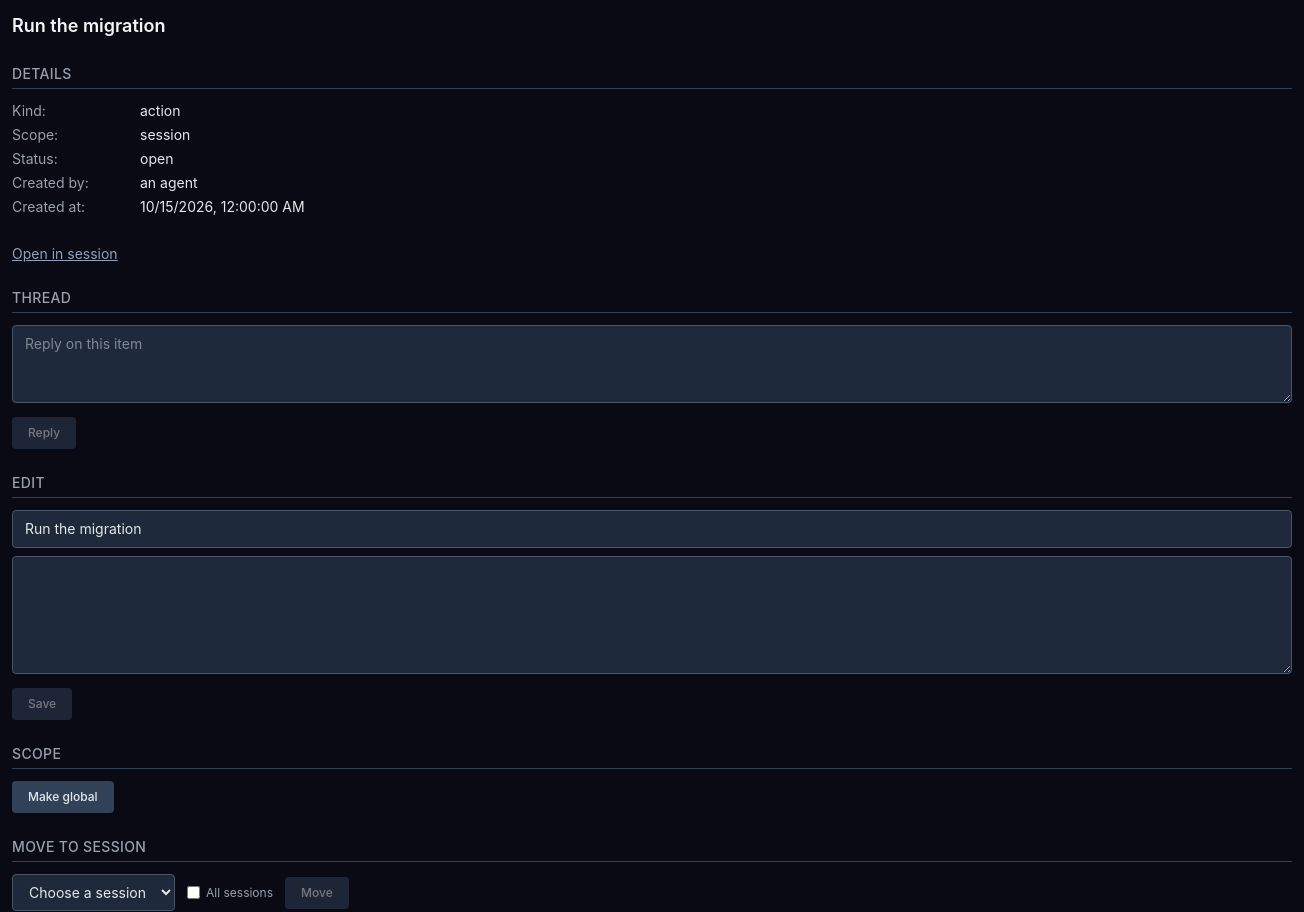
Test case: TodoDetail › move to session › Move is disabled until a target is chosen
Expected: the button "Move" is disabled, x1=285 y1=876 x2=349 y2=908
Step 1. Select "My work" in the dropdown named "Move to session" → (94, 892), box x1=12 y1=874 x2=175 y2=911
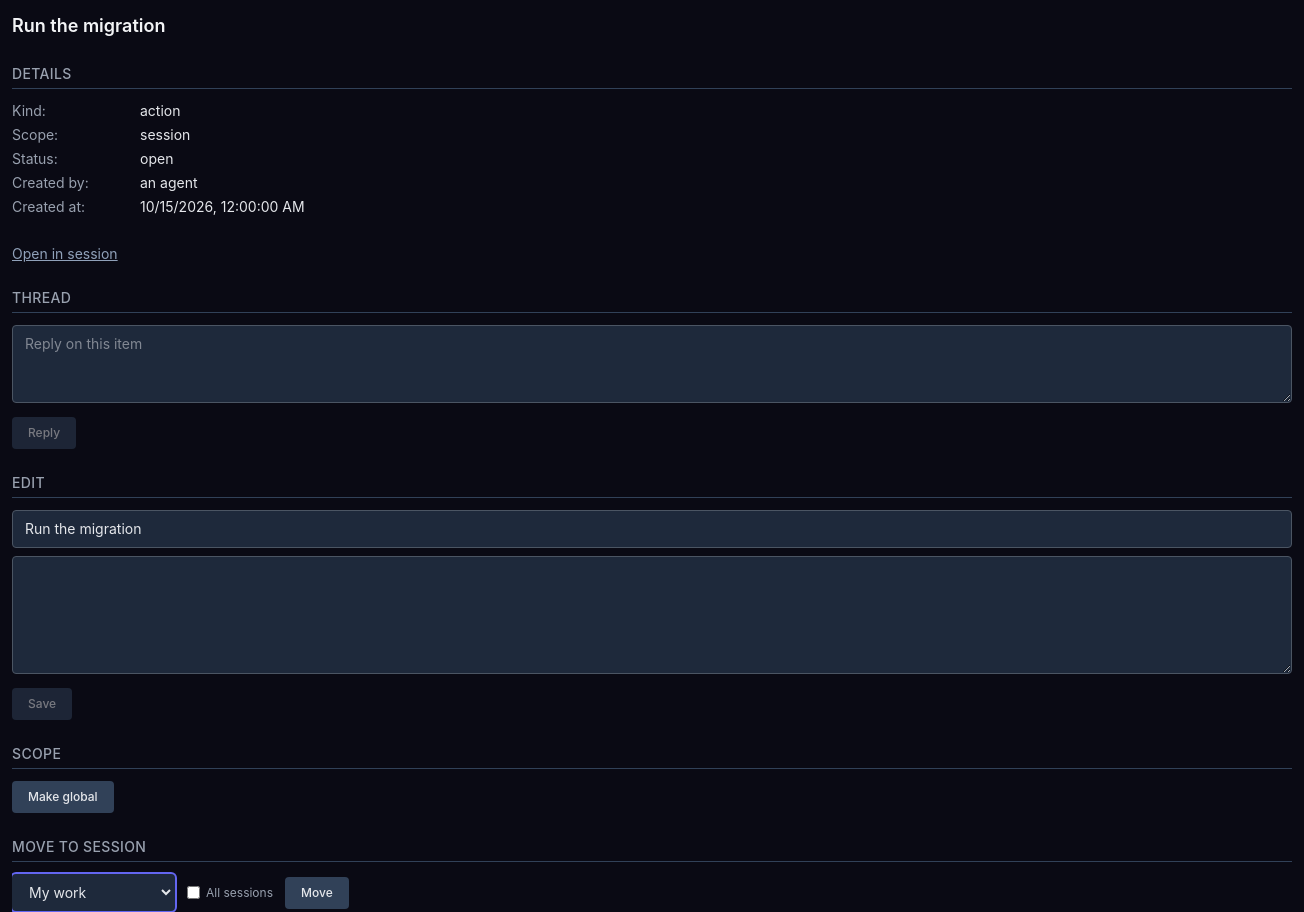
Expected: the button "Move" is enabled, x1=285 y1=876 x2=349 y2=908
